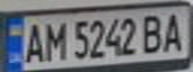2: (118, 14, 142, 57), (87, 16, 109, 60)
4: (106, 15, 124, 58)
5: (69, 17, 90, 61)
A: (18, 19, 48, 64), (160, 9, 190, 53)
B: (139, 11, 169, 54)
M: (39, 18, 69, 63)
